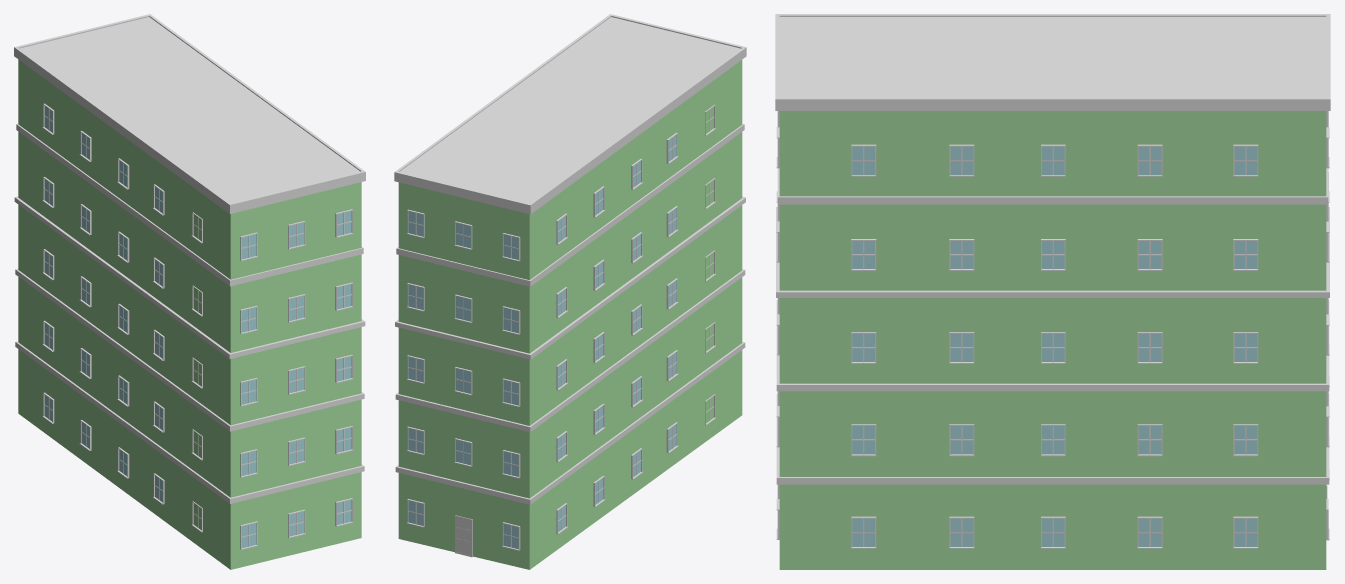
File: Predio_1.fbx
3 renders of one model, left to right at view 1: azimuth 30°, elevation 25°; view 2: azimuth 150°, elevation 25°; view 3: azimuth 270°, elevation 25°, orthographic. The views are drawn at different scales.
Visible parts, largest first — view 1: Cube.002; view 2: Cube.002; view 3: Cube.002.
Part boxes in pixels (x1,y1,x2,y2): Cube.002: (14,14,365,569); Cube.002: (394,14,746,569); Cube.002: (775,14,1330,569).
Bounding box in the file's own units: 4552 × 11734 × 12509.
